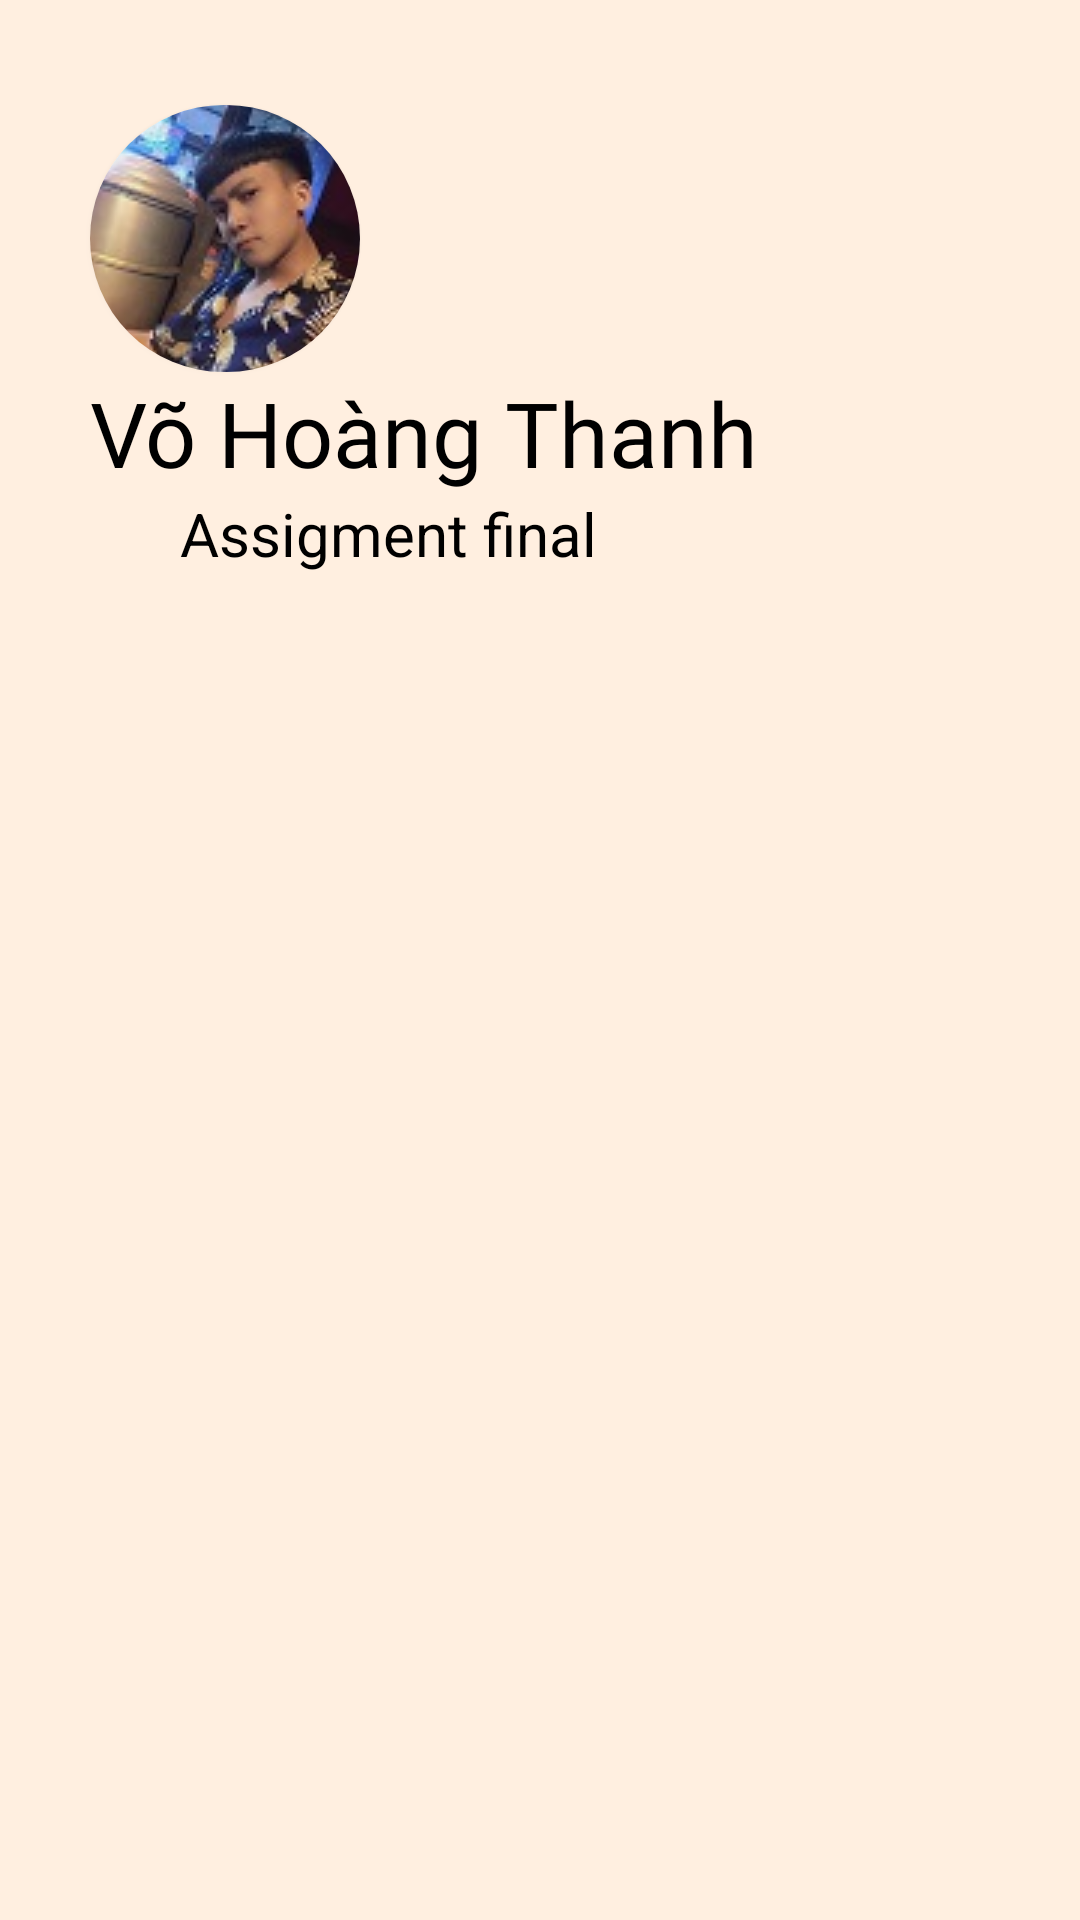

Locate icon controls on the screen. Image size 1080px x 1920px, boxes as (x1,y1,x2,y2).
acout: (90,105,360,372)
